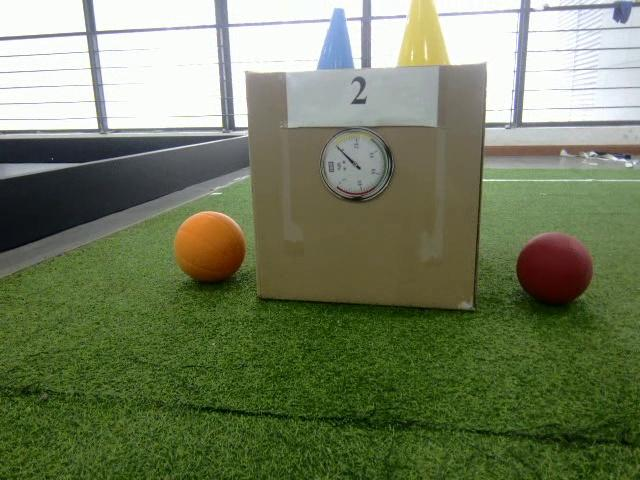2: (346, 74, 369, 106)
Dashboard: (318, 127, 395, 204)
blue_barrel: (314, 5, 356, 69)
orange_ball: (172, 213, 247, 285)
red_ball: (515, 229, 595, 308)
ssi: (329, 158, 335, 174)
yellow_barrel: (394, 0, 452, 68)
